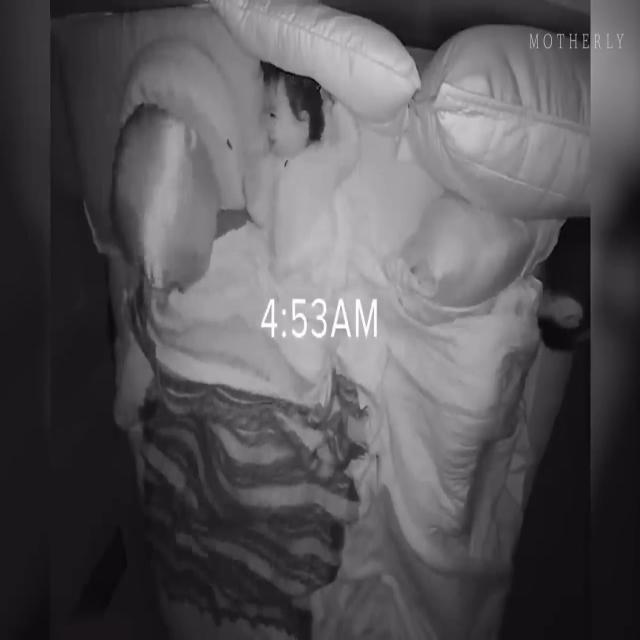baby: (244, 61, 360, 243)
